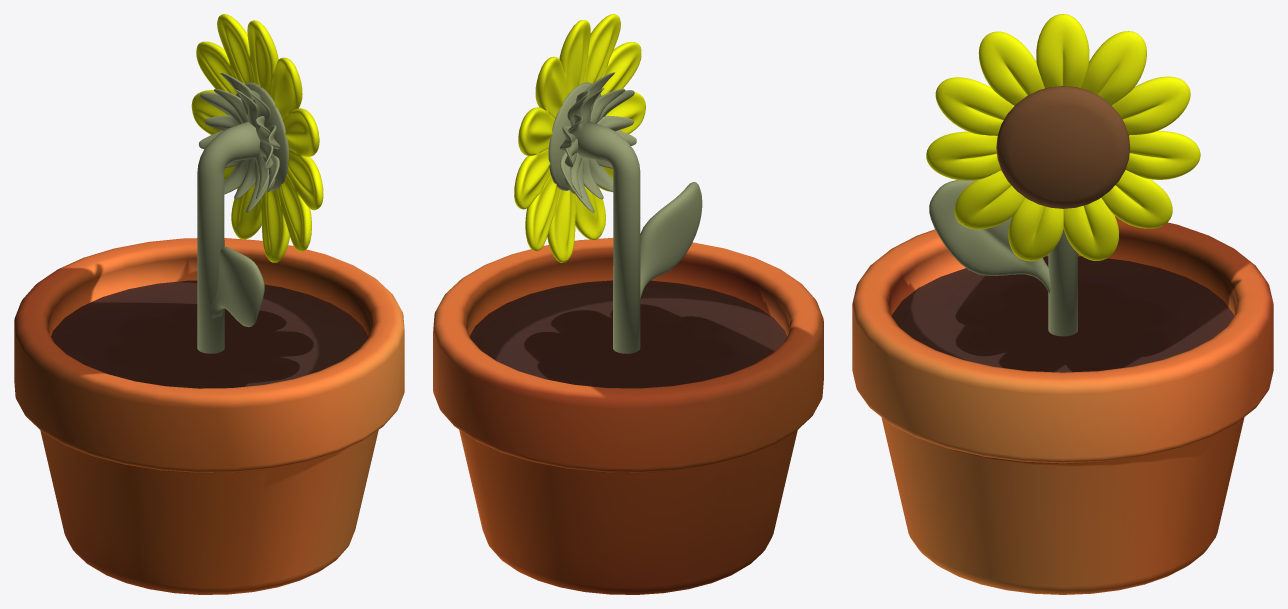
The model's file is sunflower_day.glb.
3 views of the same model, side by side, from view 1: azimuth 30°, elevation 25°; view 2: azimuth 150°, elevation 25°; view 3: azimuth 270°, elevation 25° (orthographic). The views are drawn at different scales.
Parts seen in each view (by area): view 1: Pot.001, Plane, Cylinder.001, Plane.004, Plane.003, Plane.001, Circle.002; view 2: Pot.001, Plane, Cylinder.001, Plane.004, Plane.003, Plane.001, Circle.002; view 3: Pot.001, Plane, Circle.001, Plane.004, Cylinder.001.
Boxes of the visible parts, box(x1,y1,x2,y2) form: Pot.001: box(14, 238, 404, 594); Plane: box(191, 14, 323, 262); Cylinder.001: box(197, 121, 260, 353); Plane.004: box(210, 246, 264, 327); Plane.003: box(198, 73, 280, 212); Plane.001: box(205, 89, 273, 199); Circle.002: box(236, 82, 289, 191); Pot.001: box(433, 238, 823, 594); Plane: box(514, 14, 645, 262); Cylinder.001: box(577, 121, 640, 353); Plane.004: box(640, 182, 702, 298); Plane.003: box(559, 72, 636, 212); Plane.001: box(565, 88, 633, 199); Circle.002: box(548, 82, 601, 190); Pot.001: box(852, 216, 1273, 594); Plane: box(926, 14, 1200, 261); Circle.001: box(996, 86, 1130, 208); Plane.004: box(929, 180, 1050, 293); Cylinder.001: box(1048, 229, 1077, 336).
Bounding box in the file's own units: 0.6632 × 0.9482 × 0.6632.
Materials: 5 (2 with a texture image).
